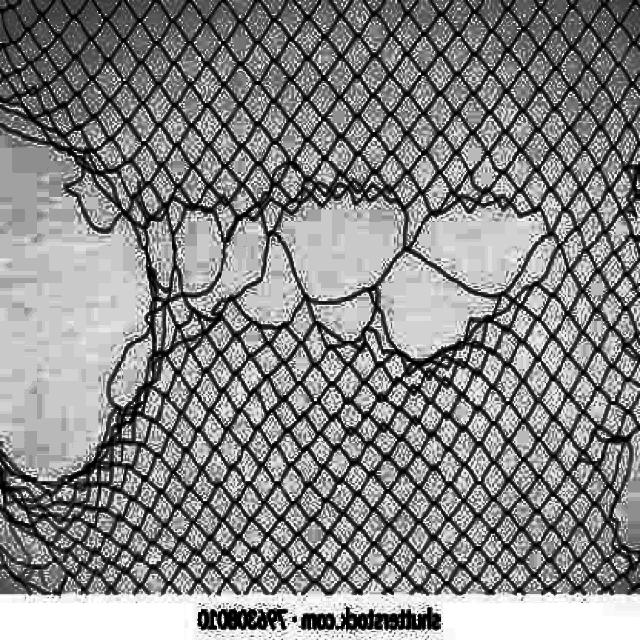anomaly-fence: (0, 69, 640, 608)
